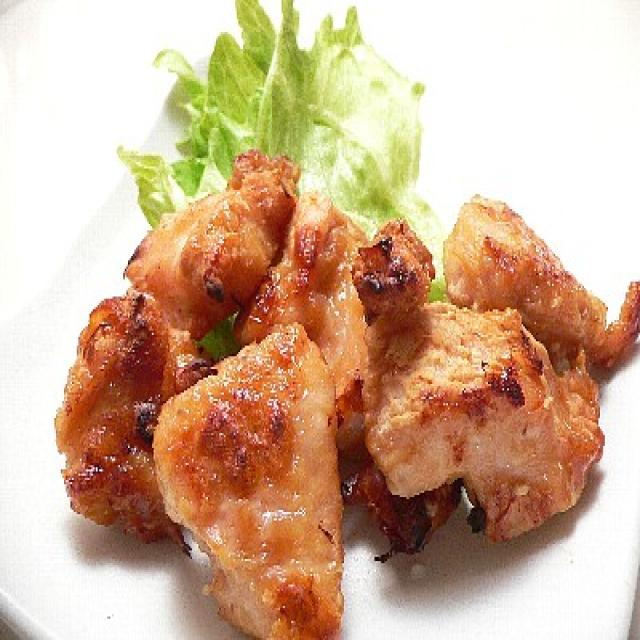鸡肉料理 含炸鸡: (93, 173, 630, 612)
